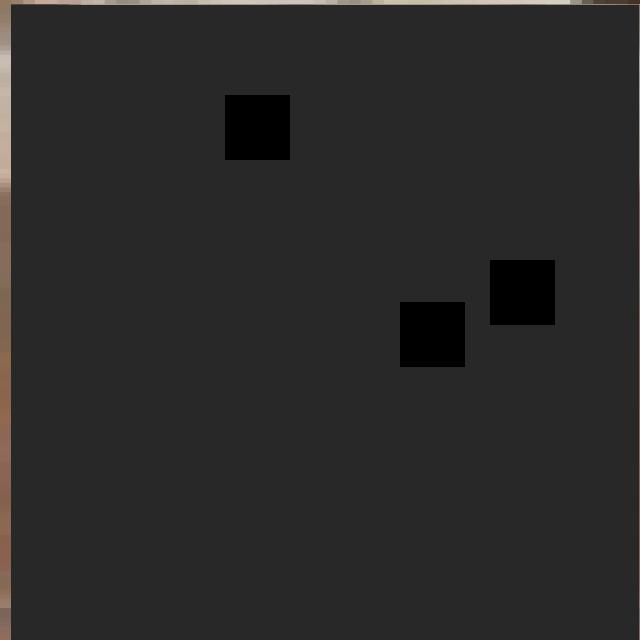smoke: (11, 4, 640, 640)
